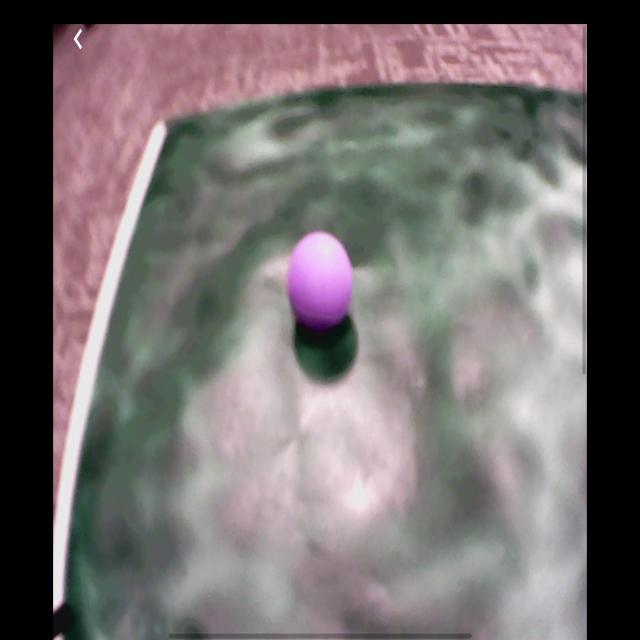ball: (288, 235, 355, 329)
